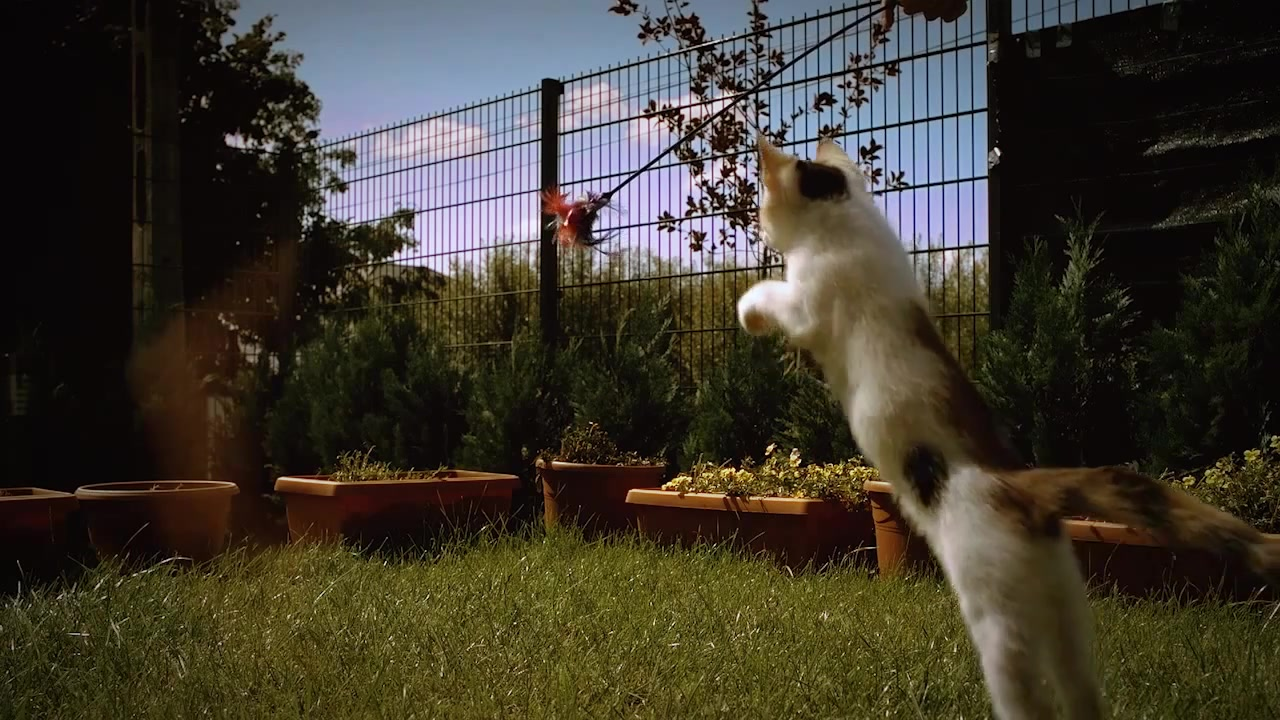cat: (735, 135, 1280, 720)
